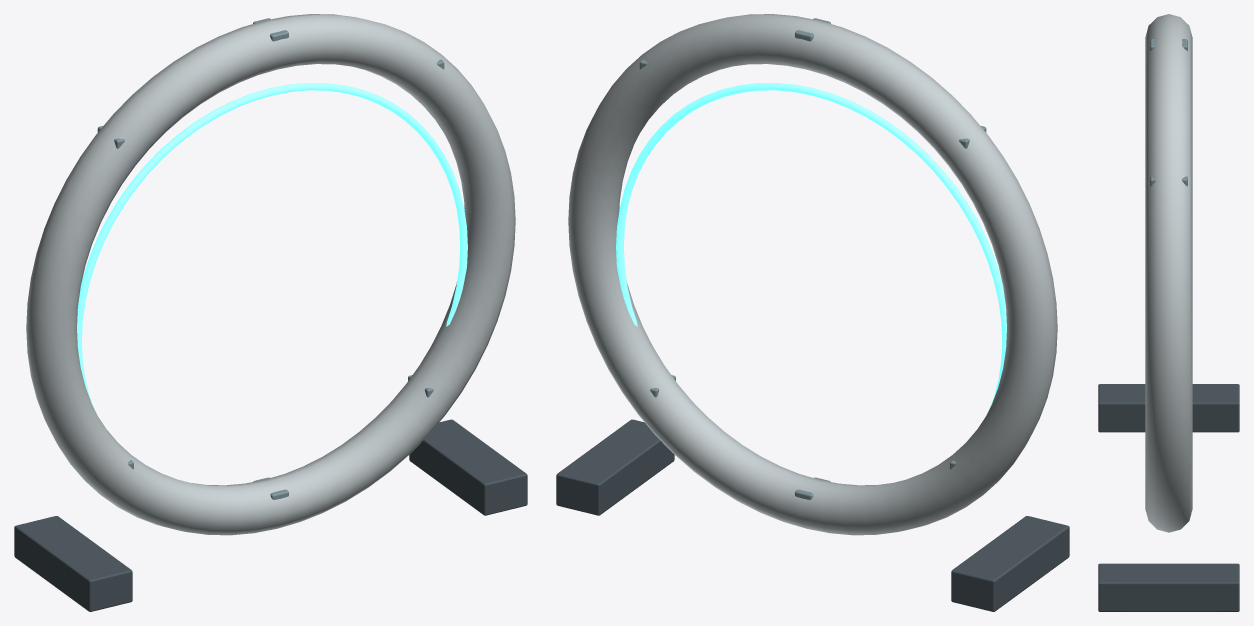
3 views of the same model, side by side, from view 1: azimuth 30°, elevation 25°; view 2: azimuth 150°, elevation 25°; view 3: azimuth 270°, elevation 25° (orthographic). The views are drawn at different scales.
Parts seen in each view (by area): view 1: jump-gate; view 2: jump-gate; view 3: jump-gate.
Part boxes in pixels (x1,y1,x2,y2): jump-gate: (14,14,527,611); jump-gate: (556,14,1069,611); jump-gate: (1098,14,1239,611).
Bounding box in the file's own units: 11 × 11.1 × 3.
